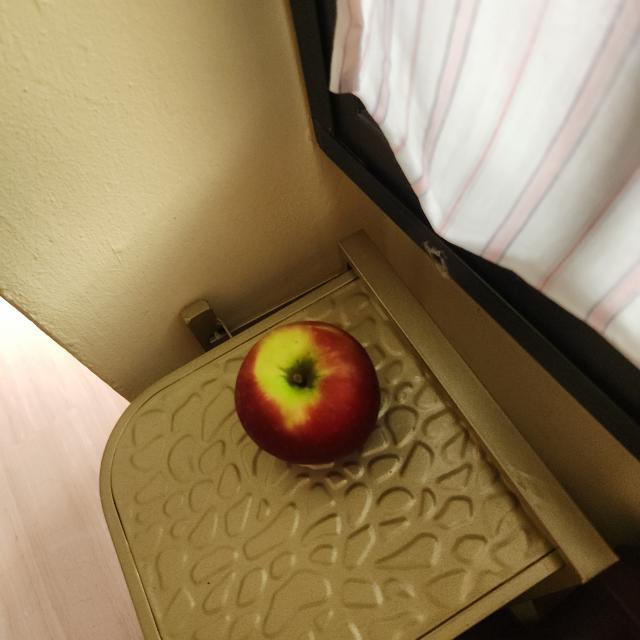apple: (228, 312, 388, 475)
